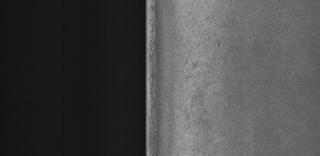silk spot: (180, 11, 236, 140)
